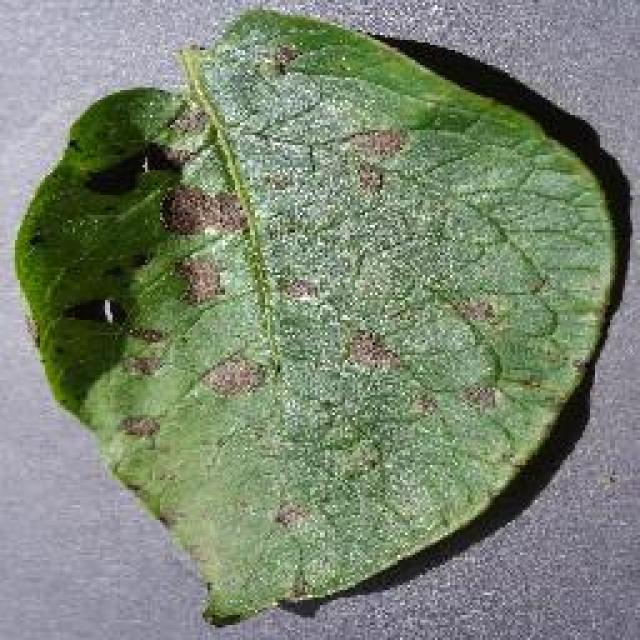Potato___Early_blight: (13, 10, 622, 625)
